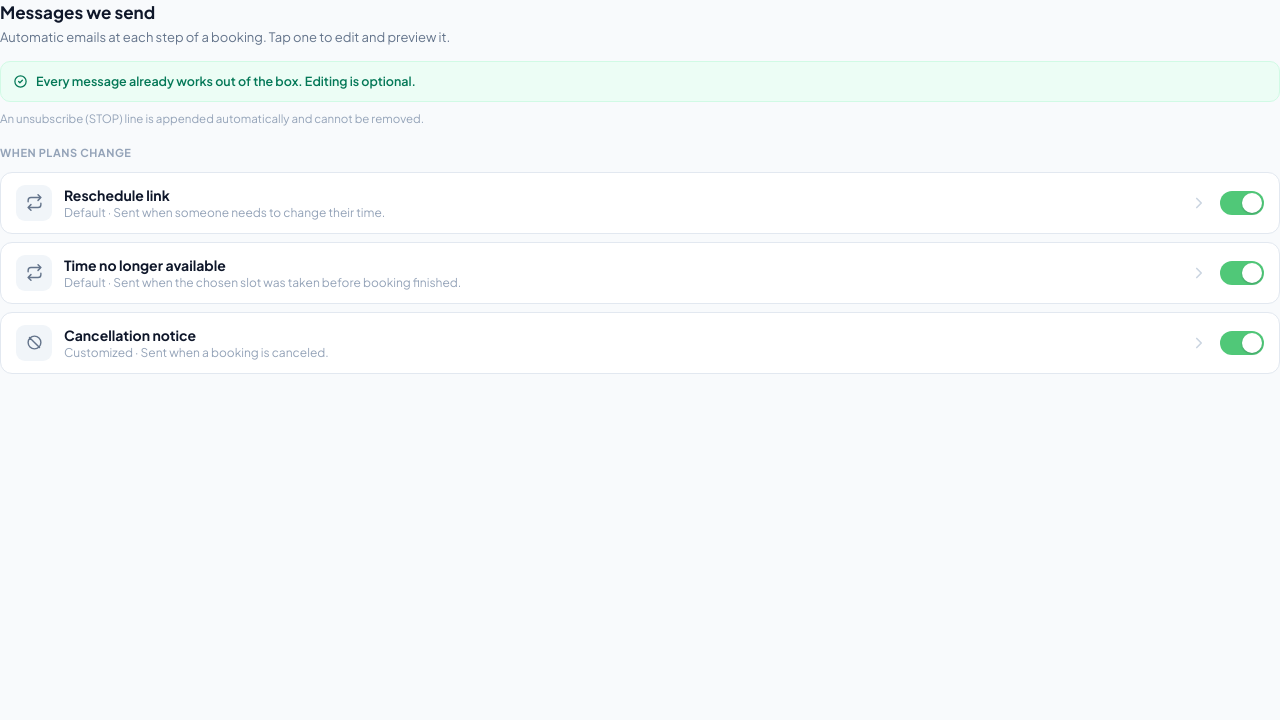
Test: NotificationTemplatesEditor (E14) — message list › seeds an existing override INTO the field so it stays editable (audit row 7)
Expected: the text "Cancellation notice" is shown, [64, 326, 196, 344]
Step 1. Click the button "Cancellation notice" → (34, 342), box [16, 324, 1208, 360]
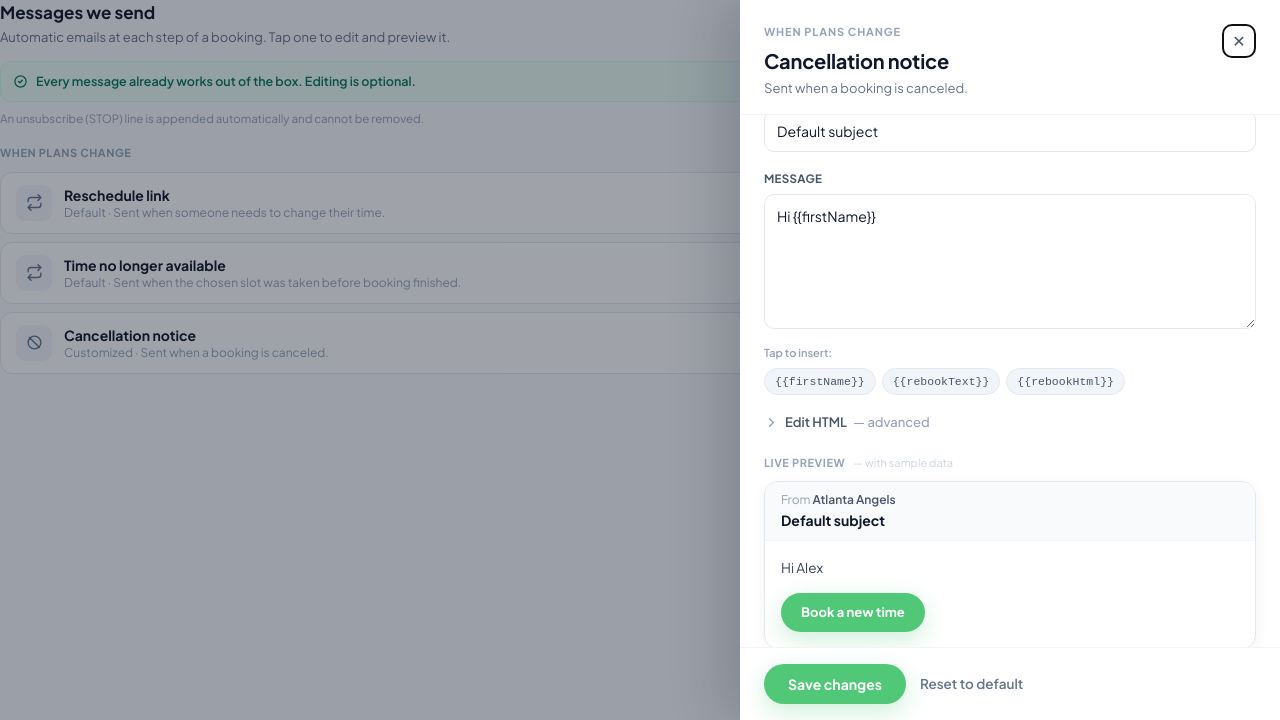
Result: the field labelled "SUBJECT" holds "Default subject" at [764, 115, 1256, 152]
Result: the button with aria-label "Insert {{rebookHtml}} into message" is shown at [1006, 368, 1125, 395]
